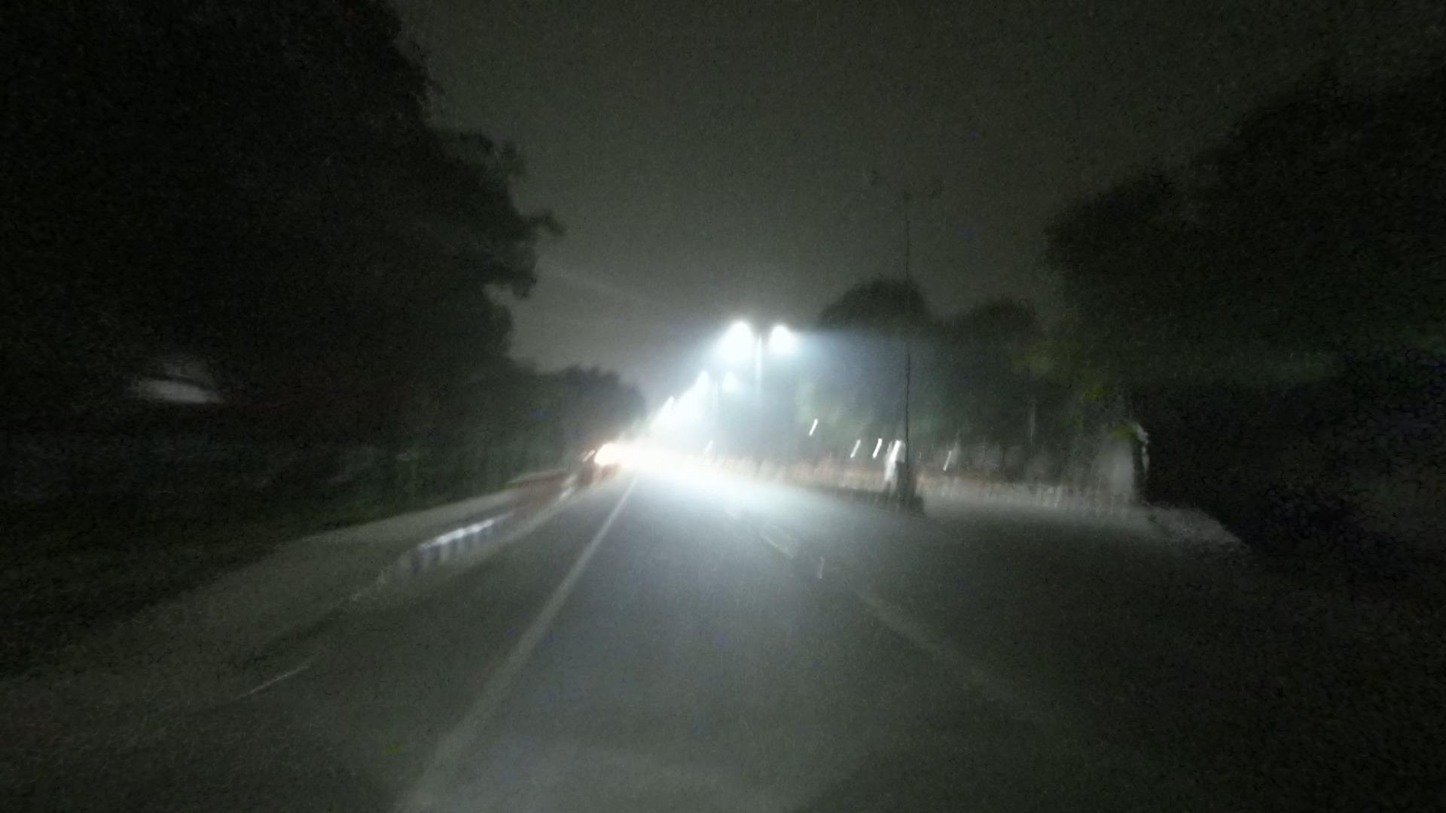streetlight: (856, 163, 902, 192), (913, 172, 947, 190)
